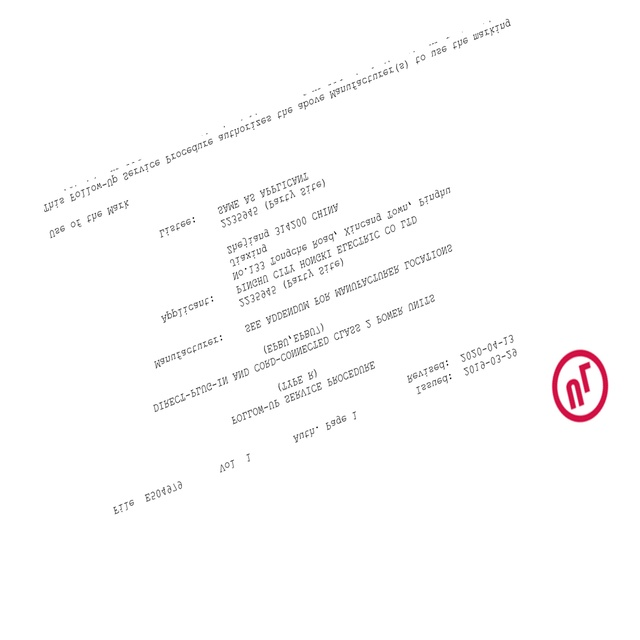ul: (550, 345, 609, 426)
